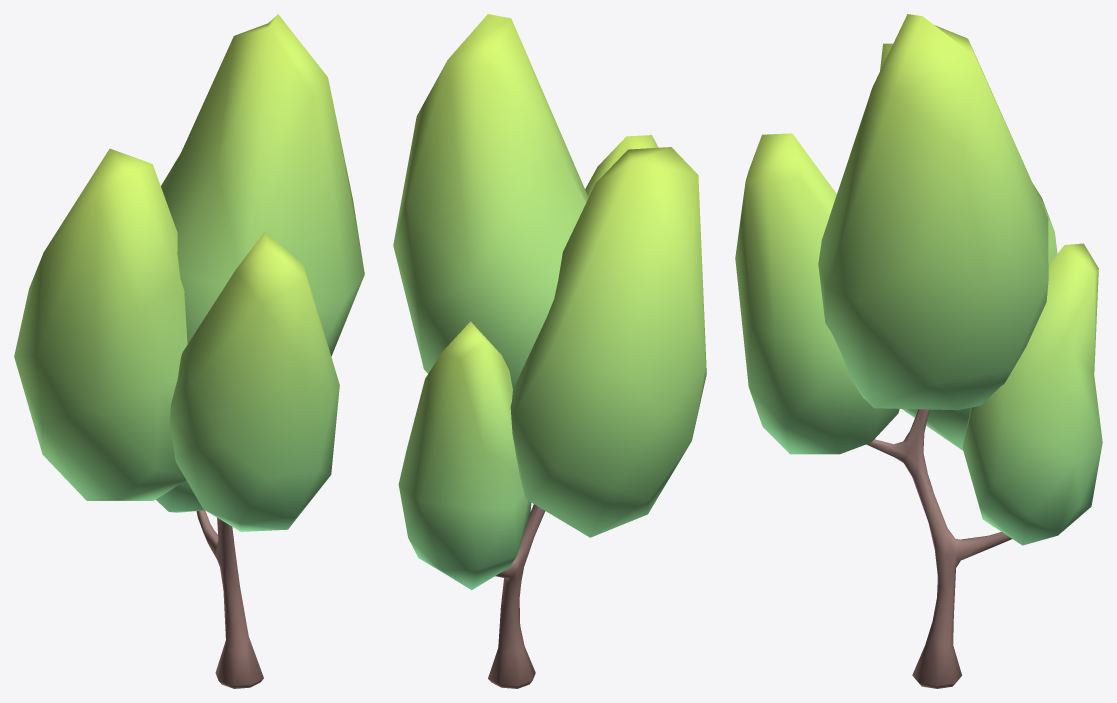
File: Tree01_L_Green.fbx
3 views of the same model, side by side, from view 1: azimuth 30°, elevation 25°; view 2: azimuth 150°, elevation 25°; view 3: azimuth 270°, elevation 25° (orthographic). The views are drawn at different scales.
Parts seen in each view (by area): view 1: Tree01_L_Green; view 2: Tree01_L_Green; view 3: Tree01_L_Green.
Part boxes in pixels (<box>): Tree01_L_Green: <box>14,14,364,688</box>; Tree01_L_Green: <box>393,14,706,688</box>; Tree01_L_Green: <box>735,14,1102,688</box>.
Bounding box in the file's own units: 8.08 × 16.8 × 8.23.
